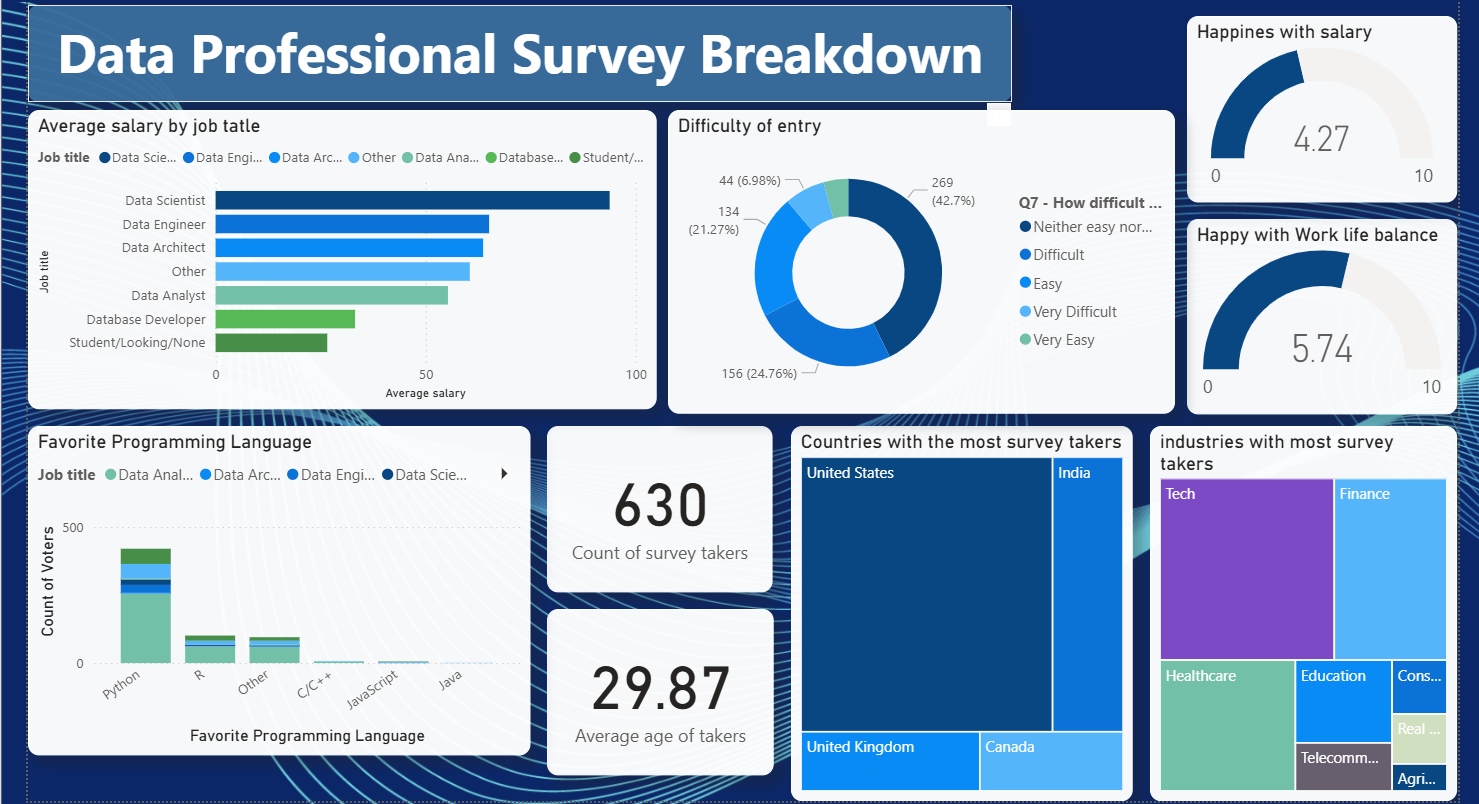

The page's visual inventory and layout, read from the dashboard file:
{"tool":"powerbi","page":{"name":"Page 1","canvas":[1280,720],"ordinal":0},"visuals":[{"type":"textbox","box":[0,7.2,881.2,86.9],"z":0},{"type":"card","fields":{"Values":["Count(Data Professional Survey (2).Unique ID)"]},"box":[463.9,394,202.4,148.7],"z":1000},{"type":"card","fields":{"Values":["Avg(Data Professional Survey (2).Q10 - Current Age)"]},"box":[463.9,560.6,203.3,148.7],"z":2000},{"type":"barChart","title":"Average salary by job tatle","fields":{"Category":["Data Professional Survey (2).Q1 - Which Title Best Fits your Current Role?.1"],"Y":["Avg(Data Professional Survey (2).Average salary)"],"Series":["Data Professional Survey (2).Q1 - Which Title Best Fits your Current Role?.1"]},"box":[0,101.2,563.3,267.8],"z":3000},{"type":"columnChart","title":"Favorite Programming Language","fields":{"Category":["Data Professional Survey (2).Q5 - Favorite Programming Language.1"],"Y":["CountNonNull(Data Professional Survey (2).Q5 - Favorite Programming Language.1)"],"Series":["Data Professional Survey (2).Q1 - Which Title Best Fits your Current Role?.1"]},"box":[0,384.2,449.6,335.8],"z":4000},{"type":"treemap","title":"Countries with the most survey takers","fields":{"Group":["Data Professional Survey (2).Q11 - Which Country do you live in?"],"Values":["CountNonNull(Data Professional Survey (2).Q11 - Which Country do you live in?)"]},"box":[683.3,384.2,306.3,335.8],"z":5000},{"type":"gauge","title":"Happiness with Work-Life Balance","fields":{"Y":["Avg(Data Professional Survey (2).Q6 - How Happy are you in your Current Position with the following? (Work/Life Balance)"],"MinValue":["Min(Data Professional Survey (2).Q6 - How Happy are you in your Current Position with the following? (Work/Life Balance)"],"MaxValue":["Max(Data Professional Survey (2).Q6 - How Happy are you in your Current Position with the following? (Work/Life Balance)"]},"box":[1037.9,201.5,241.8,171.9],"z":6000},{"type":"gauge","title":"Happiness with salary","fields":{"Y":["Avg(Data Professional Survey (2).Q6 - How Happy are you in your Current Position with the following? (Salary))"],"MinValue":["Min(Data Professional Survey (2).Q6 - How Happy are you in your Current Position with the following? (Salary))"],"MaxValue":["Max(Data Professional Survey (2).Q6 - How Happy are you in your Current Position with the following? (Salary))1"]},"box":[1037.9,34.9,241.8,154],"z":7000},{"type":"donutChart","title":"Difficulty of entry","fields":{"Category":["Data Professional Survey (2).Q7 - How difficult was it for you to break into Data?"],"Y":["CountNonNull(Data Professional Survey (2).Q7 - How difficult was it for you to break into Data?)"]},"box":[573.1,101.2,454,272.2],"z":8000},{"type":"treemap","title":"industries with most survey takers","fields":{"Group":["Data Professional Survey (2).Q4 - What Industry do you work in?"],"Values":["CountNonNull(Data Professional Survey (2).Q4 - What Industry do you work in?)"]},"box":[995.8,384.2,283.9,335.8],"z":9000}]}

Visuals, with their boxes in screenshot pixels (x1, y1, x2, y2):
textbox: [left=39, top=4, right=1010, bottom=100]
card - Count(Data Professional Survey (2).Unique ID): [left=550, top=431, right=773, bottom=595]
card - Avg(Data Professional Survey (2).Q10 - Current Age): [left=550, top=614, right=774, bottom=778]
"Average salary by job tatle" barChart: [left=39, top=108, right=660, bottom=403]
"Favorite Programming Language" columnChart: [left=39, top=420, right=534, bottom=790]
"Countries with the most survey takers" treemap: [left=792, top=420, right=1130, bottom=790]
"Happiness with Work-Life Balance" gauge: [left=1183, top=218, right=1449, bottom=408]
"Happiness with salary" gauge: [left=1183, top=35, right=1449, bottom=204]
"Difficulty of entry" donutChart: [left=670, top=108, right=1171, bottom=408]
"industries with most survey takers" treemap: [left=1136, top=420, right=1449, bottom=790]
